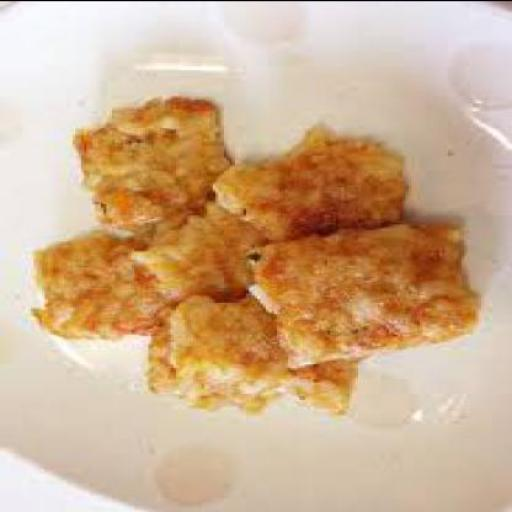biodegradable: (246, 222, 481, 370), (142, 294, 356, 415), (206, 125, 408, 245), (70, 98, 233, 232), (28, 234, 170, 340), (126, 202, 269, 304)
